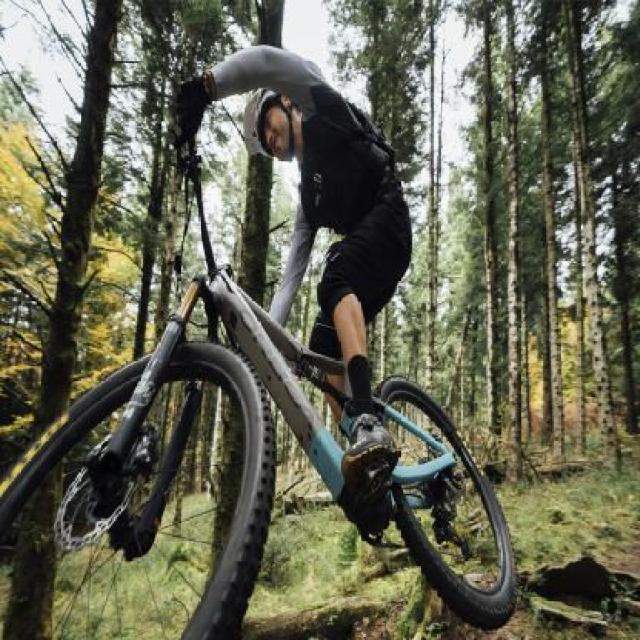bicycle: (8, 198, 527, 640)
